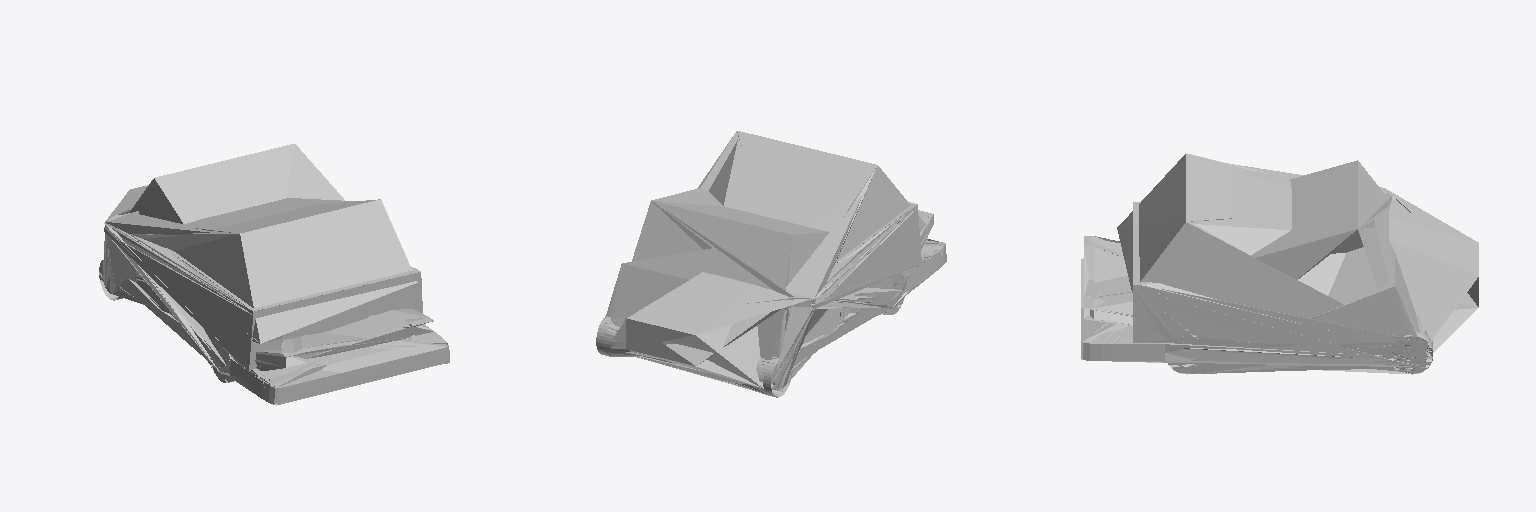
File: Police car.obj
The picture shows the model from 3 angles: view 1: azimuth 30°, elevation 25°; view 2: azimuth 150°, elevation 25°; view 3: azimuth 270°, elevation 25°; orthographic projection.
Parts seen in each view (by area): view 1: Text105, Cylinder5528, Text106, Object3526, Box32985, Box32984, Box32996; view 2: Text105, Text106, Cylinder5528, Box32984, Box32985; view 3: Text105, Box32984, Cylinder5528, Text106.
Boxes of the visible parts, box(x1,y1,x2,y2) form: Text105: box(99, 144, 449, 405); Cylinder5528: box(104, 199, 380, 370); Text106: box(99, 178, 448, 404); Object3526: box(250, 273, 422, 370); Box32985: box(105, 223, 412, 367); Box32984: box(104, 209, 420, 373); Box32996: box(249, 272, 420, 371); Text105: box(596, 140, 946, 397); Text106: box(597, 132, 946, 397); Cylinder5528: box(737, 131, 925, 308); Box32984: box(597, 131, 903, 354); Box32985: box(792, 206, 917, 303); Text105: box(1081, 160, 1478, 374); Box32984: box(1132, 194, 1432, 373); Cylinder5528: box(1117, 153, 1393, 359); Text106: box(1081, 164, 1478, 374).
Size of the model in its own units: 701 by 487 by 1217.